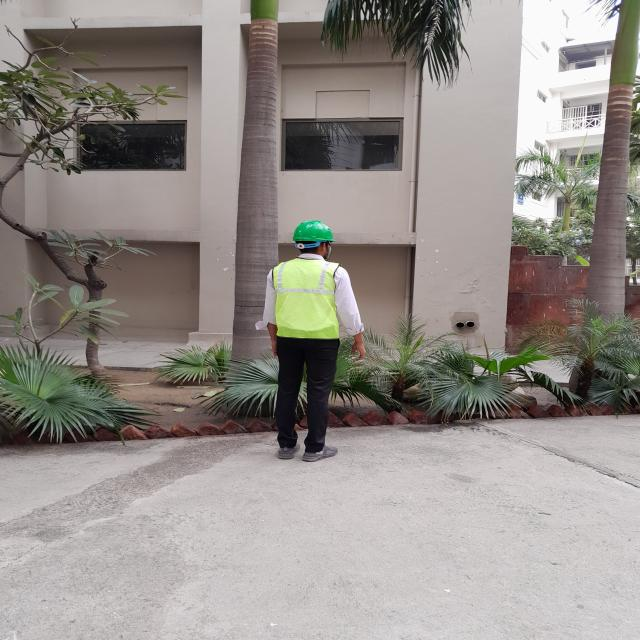safe: (265, 220, 369, 462)
